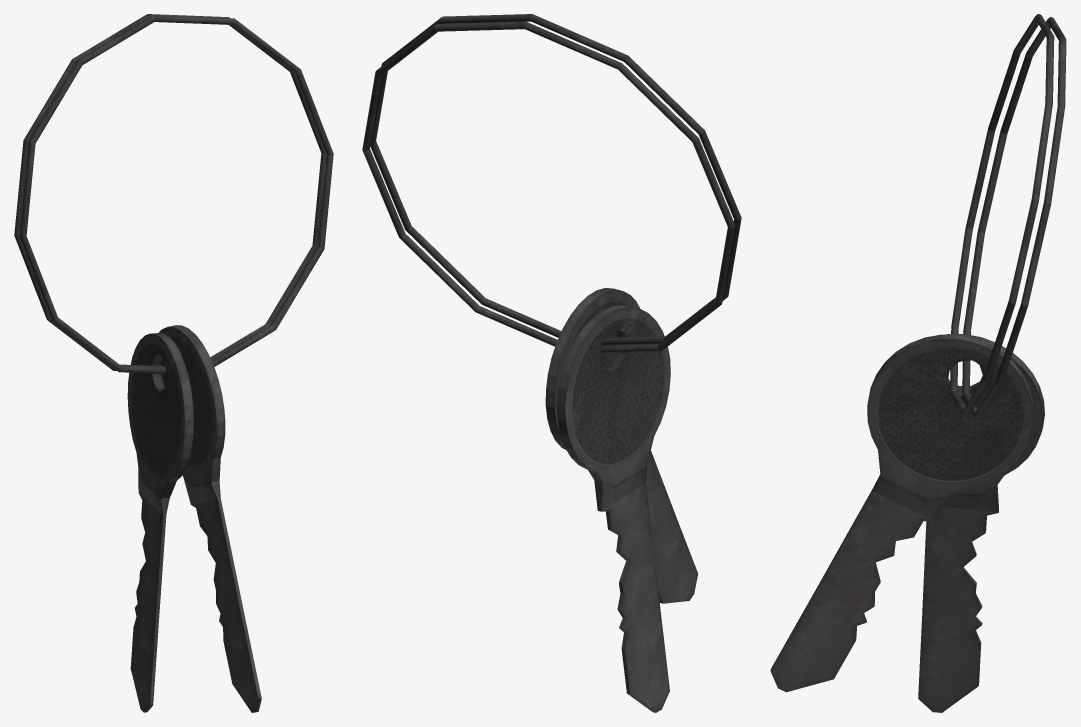
File: KeyTex.fbx
3 renders of one model, left to right at view 1: azimuth 30°, elevation 25°; view 2: azimuth 150°, elevation 25°; view 3: azimuth 270°, elevation 25°, orthographic. The views are drawn at different scales.
Visible parts, largest first — view 1: KeyY; view 2: KeyY; view 3: KeyY.
Part boxes in pixels (<box>): KeyY: <box>14,14,333,712</box>; KeyY: <box>362,14,741,712</box>; KeyY: <box>770,14,1066,712</box>.
Size of the model in its own units: 405 by 291 by 772.
1 material, 1 textured.
